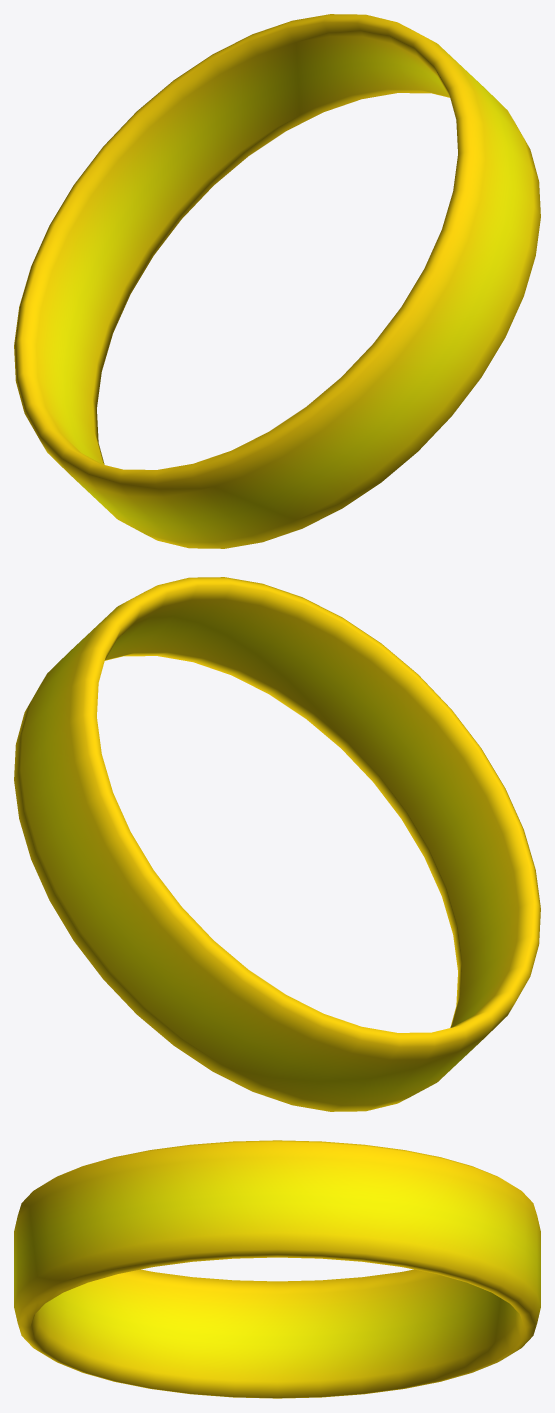
Rendered from gold_ring.fbx.
The picture shows the model from 3 angles, top to bottom: view 1: azimuth 30°, elevation 25°; view 2: azimuth 150°, elevation 25°; view 3: azimuth 270°, elevation 25°; orthographic projection. The views are drawn at different scales.
Visible parts, largest first — view 1: ring; view 2: ring; view 3: ring.
Part boxes in pixels (<box>): ring: <box>14,14,540,548</box>; ring: <box>14,577,540,1111</box>; ring: <box>14,1140,540,1398</box>.
Size of the model in its own units: 30.4 by 28.07 by 34.58.
